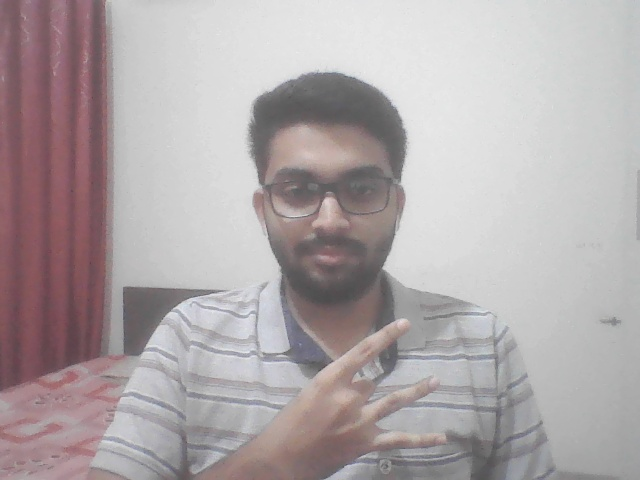like: (236, 314, 476, 476)
